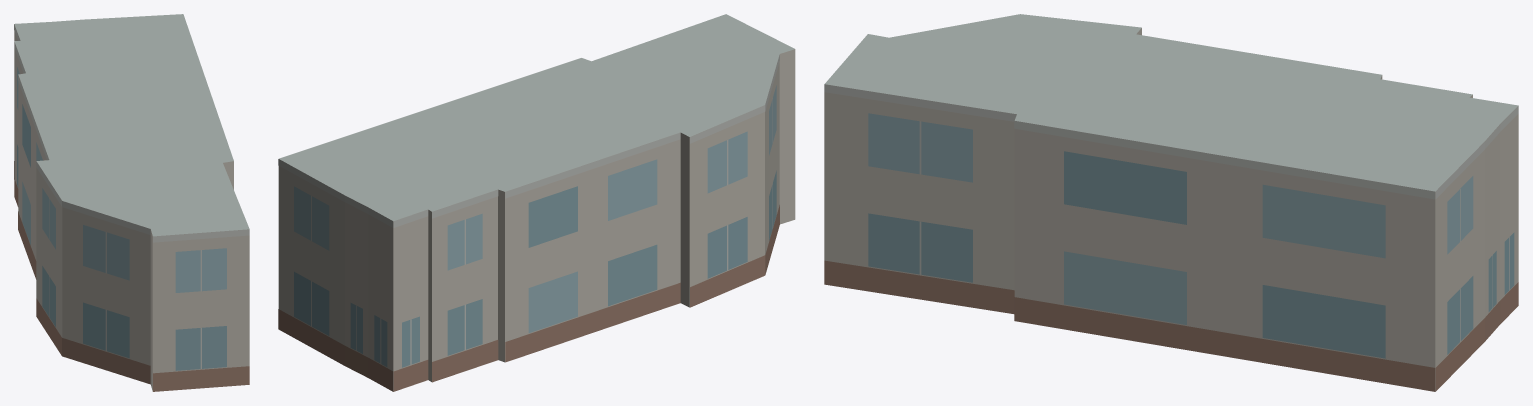
Rendered from survey-upis-32803396.glb.
3 views of the same model, side by side, from view 1: azimuth 30°, elevation 25°; view 2: azimuth 150°, elevation 25°; view 3: azimuth 270°, elevation 25° (orthographic). The views are drawn at different scales.
Parts seen in each view (by area): view 1: survey-upis-32803396.tmp; view 2: survey-upis-32803396.tmp; view 3: survey-upis-32803396.tmp.
Boxes of the visible parts, x1,y1,x2,y2 form: survey-upis-32803396.tmp: [14, 14, 249, 391]; survey-upis-32803396.tmp: [278, 14, 795, 391]; survey-upis-32803396.tmp: [824, 14, 1518, 391].
Size of the model in its own units: 11.6 by 6.1 by 19.17.
